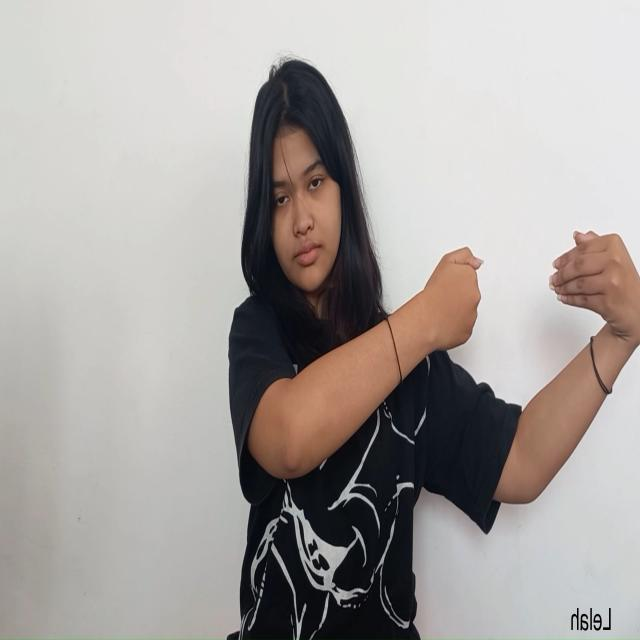Lelah -BISINDO-: (421, 222, 640, 357)
